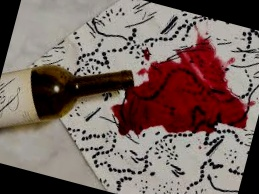wine: (120, 31, 253, 155)
